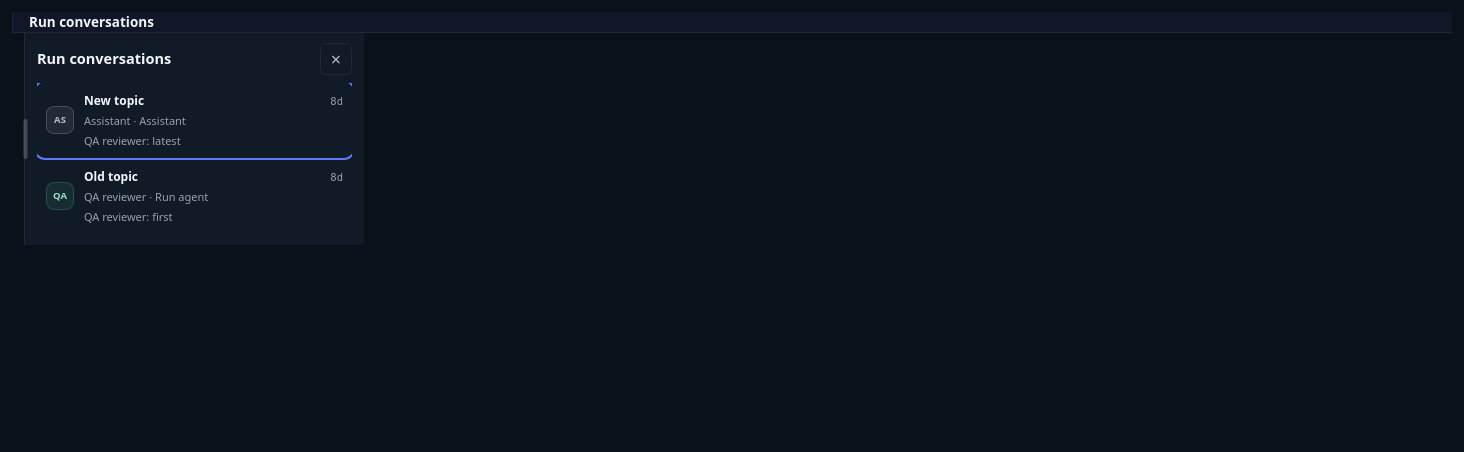
Test case: RunConversationsPanel › list -> history -> Back, and the history is read from the thread
Click the text "New topic" at x=114, y=101, box x1=84 y1=92 x2=144 y2=109
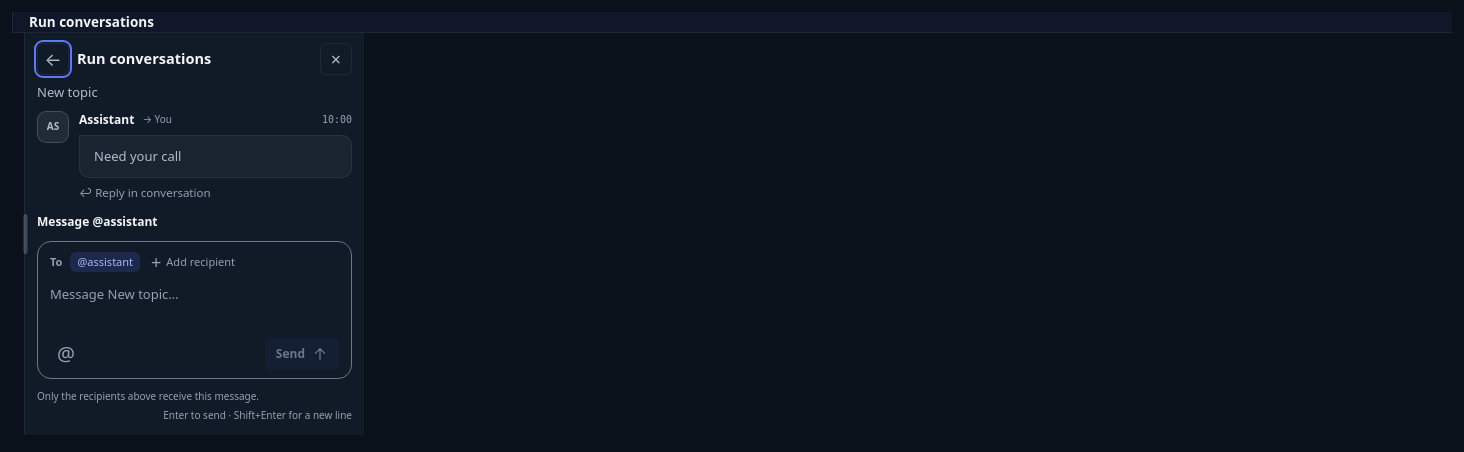
Expected: the text "Need your call" is shown, x1=79 y1=135 x2=352 y2=178
Expected: the button named "Back to conversations" is shown
Click the button named "Back to conversations" at x=53, y=59, box x1=37 y1=43 x2=69 y2=75
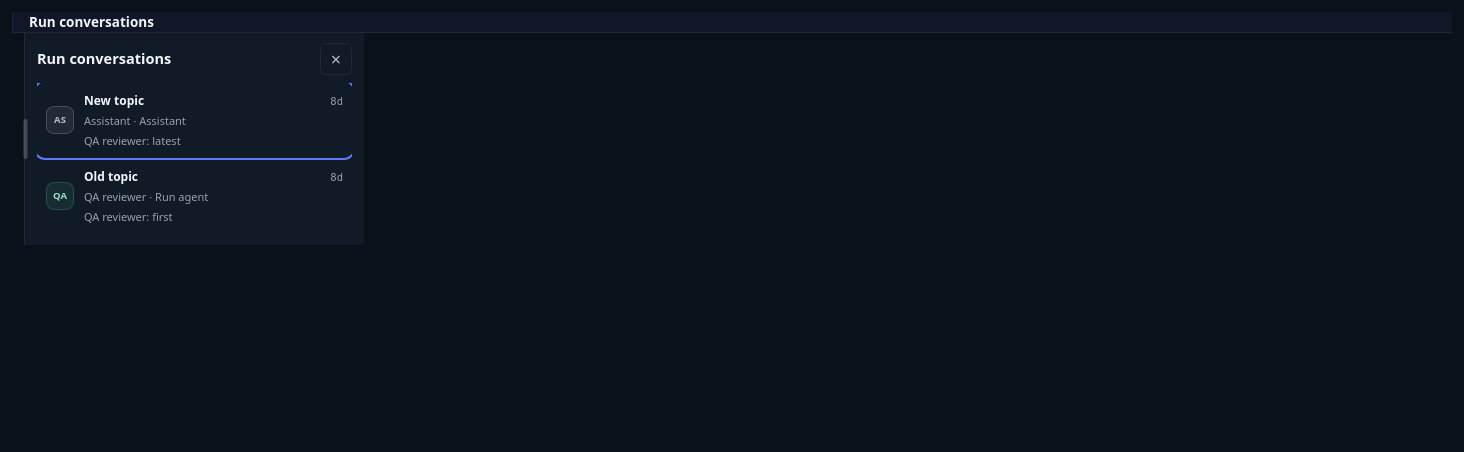
Expected: the text "Old topic" is shown, x1=84 y1=168 x2=138 y2=185
Expected: the text "Need your call" is gone
